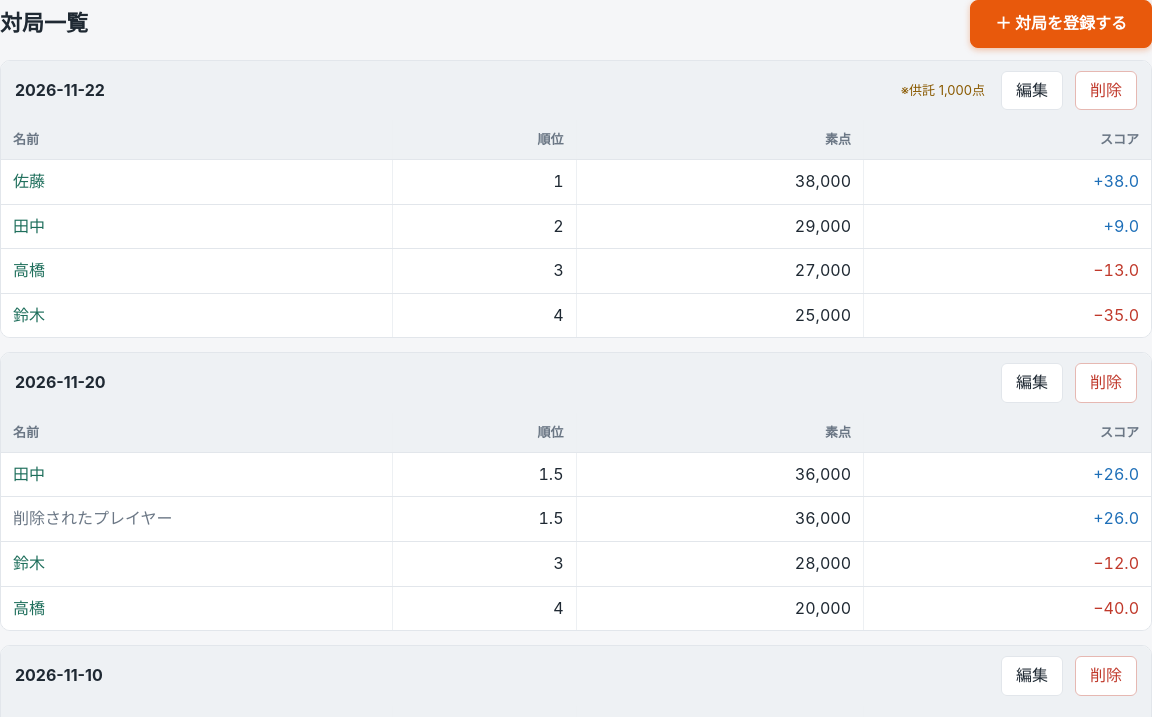
Scenario: 削除 › 「削除する」を押すと、その対局を削除し、成功メッセージを出して、一覧を取得し直す
The image size is (1152, 717).
expect the text "2026-11-22" is shown: met, box [15,78,105,103]
Click the button "削除" in the row of "2026-11-20" at point(1106, 383), box [1075,363,1137,403]
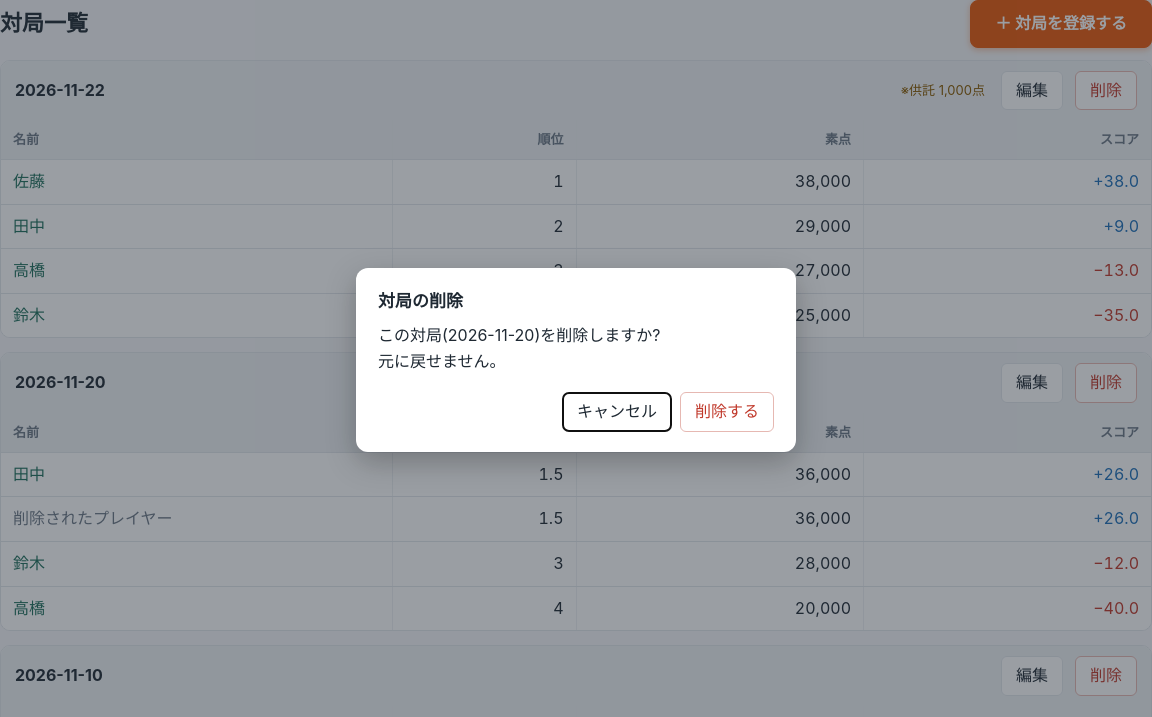
Click the button "削除する" at point(727, 412), box [680,392,774,432]
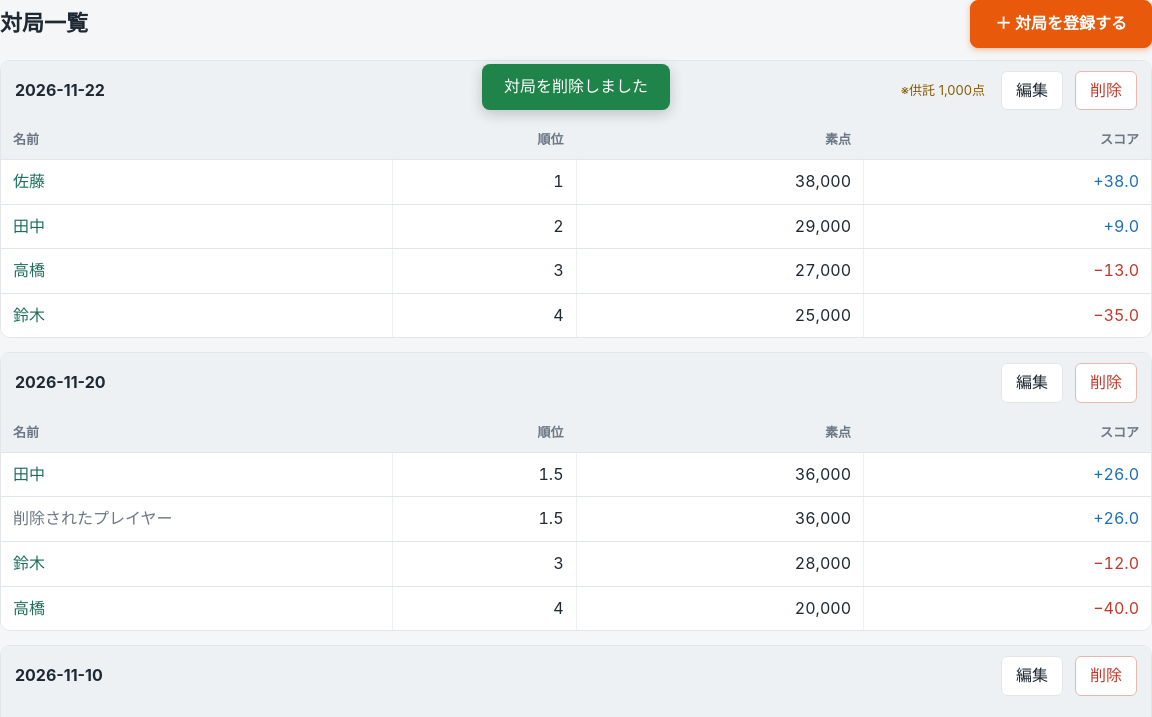
expect the text "対局を削除しました" is shown: met, box [482,64,670,110]
expect the dialog is gone: met
